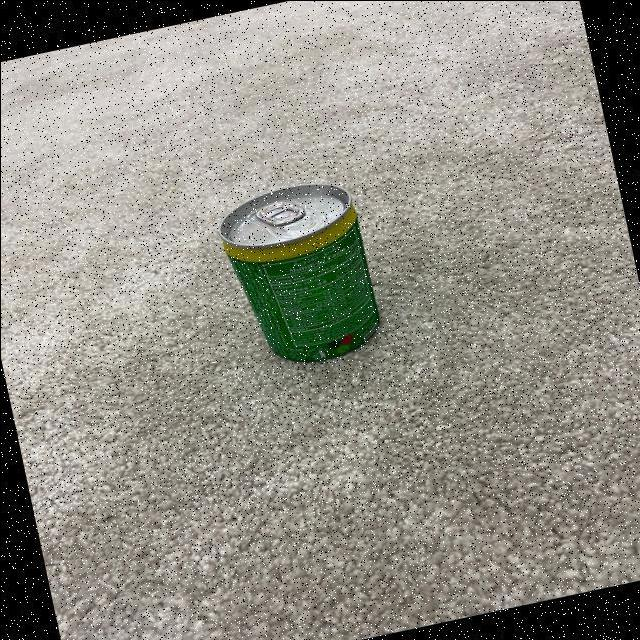can: (214, 170, 392, 378)
